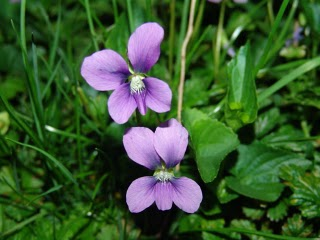violet: (78, 21, 179, 121), (114, 120, 205, 225)
